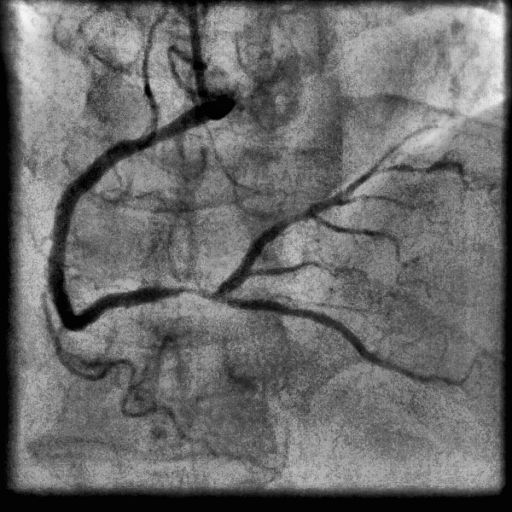pborca: (219, 128, 422, 295)
pda: (222, 297, 479, 386)
rca: (48, 94, 234, 330)
